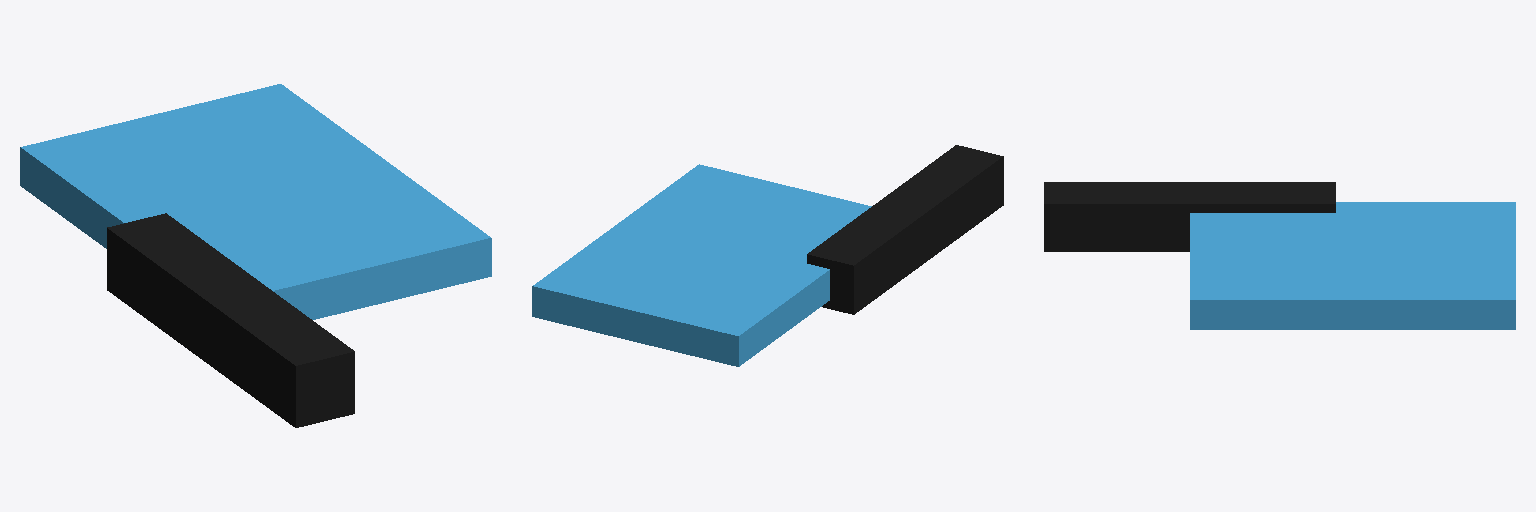
The robot description file, URDF, robot "industrial_kinect_calibration":
<?xml version="1.0" ?>
<!-- =================================================================================== -->
<!-- |    This document was autogenerated by xacro from camera_scene.xacro             | -->
<!-- |    EDITING THIS FILE BY HAND IS NOT RECOMMENDED                                 | -->
<!-- =================================================================================== -->
<robot name="industrial_kinect_calibration" xmlns:xacro="http://ros.org/wiki/xacro">
  <link name="world"/>
  <link name="target_frame">
    <visual>
      <origin xyz="0.0875  0.1225 0"/>
      <geometry>
        <box size="0.175 0.245 0.025"/>
      </geometry>
    </visual>
  </link>
  <joint name="world_2_cal_target" type="fixed">
    <parent link="world"/>
    <child link="target_frame"/>
    <origin rpy="0 0 0" xyz="0 0 0"/>
  </joint>
  <material name="kinectdark_silver">
    <color rgba="0.15 0.15 0.15 1"/>
  </material>
  <link name="kinect_link"/>
  <link name="kinect_frame">
    <visual>
      <origin rpy="0 0 0" xyz="0 0 0"/>
      <geometry>
        <box size="0.04 0.22 0.04"/>
      </geometry>
      <material name="kinectdark_silver"/>
    </visual>
    <collision>
      <origin rpy="0 0 0" xyz="0 0 0"/>
      <geometry>
        <box size="0.04 0.22 0.04"/>
      </geometry>
    </collision>
  </link>
  <link name="kinect_ir_link">
    <visual>
      <origin rpy="0 0 0" xyz="0 0 0"/>
      <geometry>
        <sphere radius="0.0005"/>
      </geometry>
    </visual>
  </link>
  <link name="kinect_rgb_link">
    <visual>
      <origin rpy="0 0 0" xyz="0 0 0"/>
      <geometry>
        <sphere radius="0.0005"/>
      </geometry>
    </visual>
  </link>
  <link name="kinect_rgb_frame"/>
  <link name="kinect_ir_optical_frame"/>
  <link name="kinect_rgb_optical_frame"/>
  <link name="kinect_link_x_trans">
    <visual>
      <origin rpy="0 0 0" xyz="0 0 0"/>
      <geometry>
        <sphere radius="0.0005"/>
      </geometry>
    </visual>
  </link>
  <link name="kinect_link_y_trans"/>
  <link name="kinect_link_z_trans"/>
  <link name="kinect_link_pitch"/>
  <link name="kinect_link_yaw"/>
  <joint name="kinect_link_x_joint" type="prismatic">
    <parent link="world"/>
    <child link="kinect_link_x_trans"/>
    <origin rpy="0 0 0" xyz="0 0 0"/>
    <axis rpy="0 0 0" xyz="1 0 0"/>
    <limit effort="30" lower="-1.0" upper="1.0" velocity="0.0508"/>
  </joint>
  <joint name="kinect_link_y_joint" type="prismatic">
    <parent link="kinect_link_x_trans"/>
    <child link="kinect_link_y_trans"/>
    <origin rpy="0 0 0" xyz="0 0 0"/>
    <axis rpy="0 0 0" xyz="0 1 0"/>
    <limit effort="30" lower="-1.0" upper="1.0" velocity="0.0508"/>
  </joint>
  <joint name="kinect_link_z_joint" type="prismatic">
    <parent link="kinect_link_y_trans"/>
    <child link="kinect_link_z_trans"/>
    <origin rpy="0 0 0" xyz="0 0 0"/>
    <axis rpy="0 0 0" xyz="0 0 1"/>
    <limit effort="30" lower="-1.0" upper="1.0" velocity="0.0508"/>
  </joint>
  <joint name="kinect_link_yaw_joint" type="revolute">
    <parent link="kinect_link_z_trans"/>
    <child link="kinect_link_yaw"/>
    <origin rpy="0 0 0" xyz="0 0 0"/>
    <limit effort="2" lower="-3.1415" upper="3.1415" velocity="10"/>
    <axis xyz="0 0 1"/>
  </joint>
  <joint name="kinect_link_pitch_joint" type="revolute">
    <parent link="kinect_link_yaw"/>
    <child link="kinect_link_pitch"/>
    <origin rpy="0 0 0" xyz="0 0 0"/>
    <limit effort="2" lower="-3.1415" upper="3.1415" velocity="10"/>
    <axis xyz="0 1 0"/>
  </joint>
  <joint name="kinect_link_roll_joint" type="revolute">
    <parent link="kinect_link_pitch"/>
    <child link="kinect_link"/>
    <origin rpy="0 0 0" xyz="0 0 0"/>
    <limit effort="2" lower="-3.1415" upper="3.1415" velocity="10"/>
    <axis xyz="1 0 0"/>
  </joint>
  <joint name="kinect_frame_joint" type="fixed">
    <parent link="kinect_link"/>
    <child link="kinect_frame"/>
    <origin rpy="0 0 0" xyz="0 0 0"/>
  </joint>
  <joint name="kinect_ir_joint" type="fixed">
    <parent link="kinect_frame"/>
    <child link="kinect_ir_link"/>
    <origin rpy="0 0 0" xyz="0 0 0"/>
  </joint>
  <joint name="kinect_ir_optical_frame_joint" type="fixed">
    <parent link="kinect_ir_link"/>
    <child link="kinect_ir_optical_frame"/>
    <origin rpy="-1.57 0 -1.57" xyz="0 0 0"/>
  </joint>
  <joint name="kinect_rgb_joint" type="fixed">
    <parent link="kinect_ir_link"/>
    <child link="kinect_rgb_link"/>
    <origin rpy="0 0 0" xyz="0 -0.03 0"/>
  </joint>
  <joint name="kinect_rgb_frame_joint" type="fixed">
    <parent link="kinect_rgb_optical_frame"/>
    <child link="kinect_rgb_frame"/>
    <origin rpy="0 0 0" xyz="0 0.0 0"/>
  </joint>
  <joint name="kinect_rgb_optical_frame_joint" type="fixed">
    <parent link="kinect_rgb_link"/>
    <child link="kinect_rgb_optical_frame"/>
    <origin rpy="-1.57 0 -1.57" xyz="0 0 0"/>
  </joint>
</robot>

--- What the picture shows (computed from the rendered views, not written in the file) ---
The picture shows the robot from 3 angles, left to right: view 1: azimuth 30°, elevation 25°; view 2: azimuth 150°, elevation 25°; view 3: azimuth 270°, elevation 25°; orthographic projection.
Robot: industrial_kinect_calibration — 14 links, 13 joints (3 revolute, 3 prismatic, 7 fixed); root link world; default pose: every joint at zero.
Links seen in each view (by area): view 1: target_frame, kinect_frame; view 2: target_frame, kinect_frame; view 3: target_frame, kinect_frame.
Link boxes in pixels (box(x1,y1,x2,y2)): target_frame: box(20, 84, 491, 319); kinect_frame: box(107, 213, 354, 427); target_frame: box(532, 164, 871, 366); kinect_frame: box(807, 145, 1003, 314); target_frame: box(1190, 202, 1515, 329); kinect_frame: box(1044, 182, 1335, 251).
Bounding box of the posed robot: 0.195 × 0.355 × 0.04 m (x, y, z).
Geometry: primitives only (box / cylinder / sphere), no mesh files.